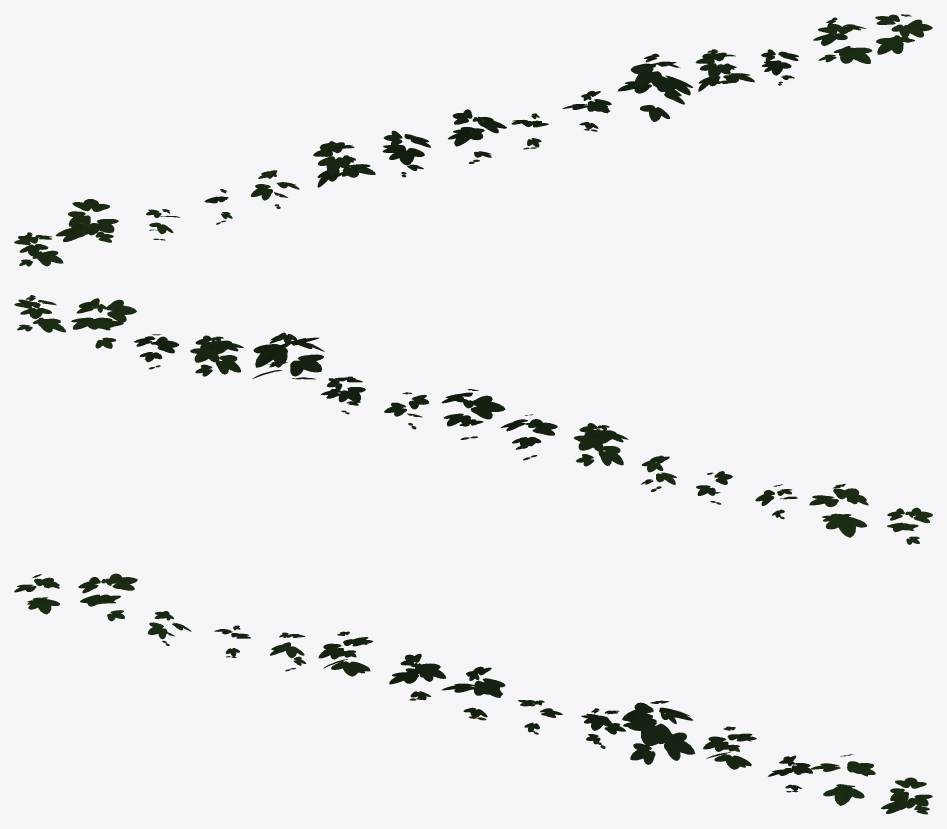
The model's file is ROW_04_SEG1_foliage.dae.
3 views of the same model, one above another, from view 1: azimuth 30°, elevation 25°; view 2: azimuth 150°, elevation 25°; view 3: azimuth 330°, elevation 25° (orthographic).
Visible parts, largest first — view 1: ROW_04_SEG1_foliage; view 2: ROW_04_SEG1_foliage; view 3: ROW_04_SEG1_foliage.
Part boxes in pixels (x1,y1,x2,y2): ROW_04_SEG1_foliage: (14, 14, 932, 266); ROW_04_SEG1_foliage: (14, 295, 932, 544); ROW_04_SEG1_foliage: (14, 573, 932, 814).
Bounding box in the file's own units: 4.47 × 0.3768 × 0.2914.
